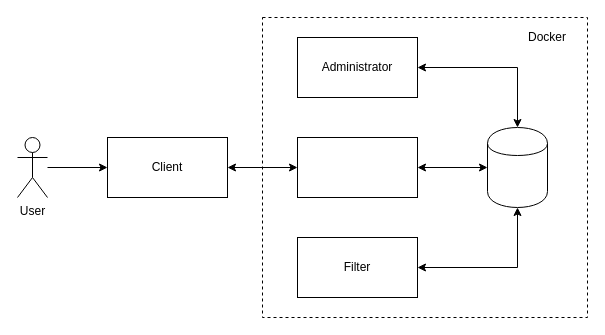
Some shapes in this 605 by 335 pixel diagram are drawn without their labels. The centre of each missing label's shape, as x and y in pixels:
MySQL: [517,167]
Server: [357,167]
